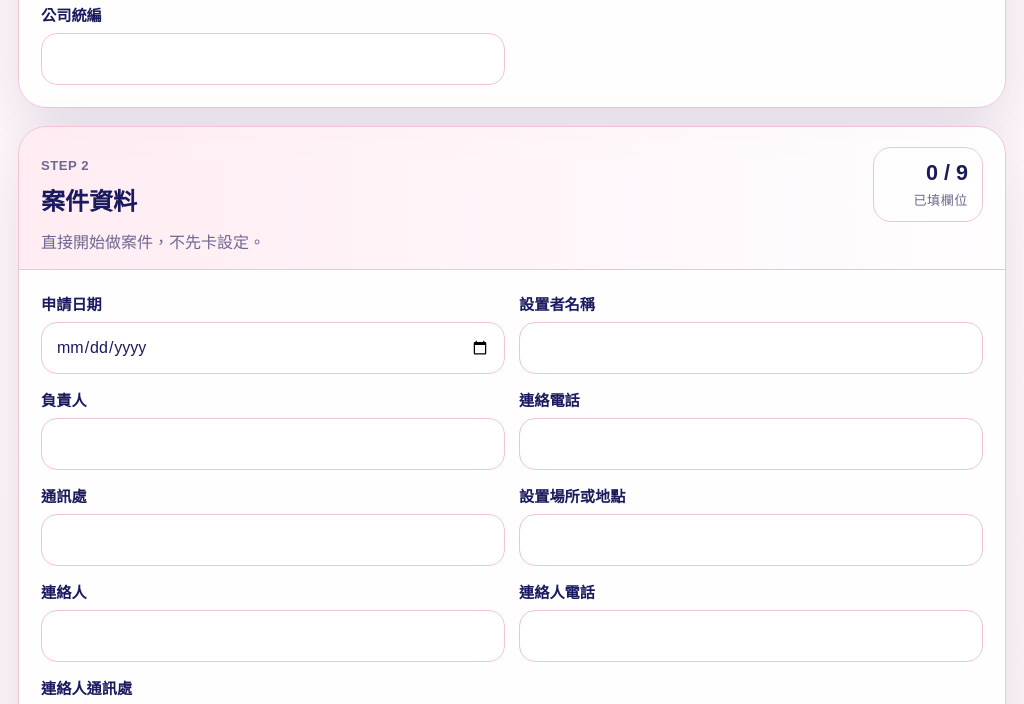
Test: single-form MVP page › shows the quick summary after case data changes
This screenshot has width=1024, height=704.
(page scrolled)
Type "吳威霖" into the field labelled "設置者名稱".
click(751, 348); type("吳威霖")  # box top-left (519, 322), bottom-right (983, 374)
(page scrolled)
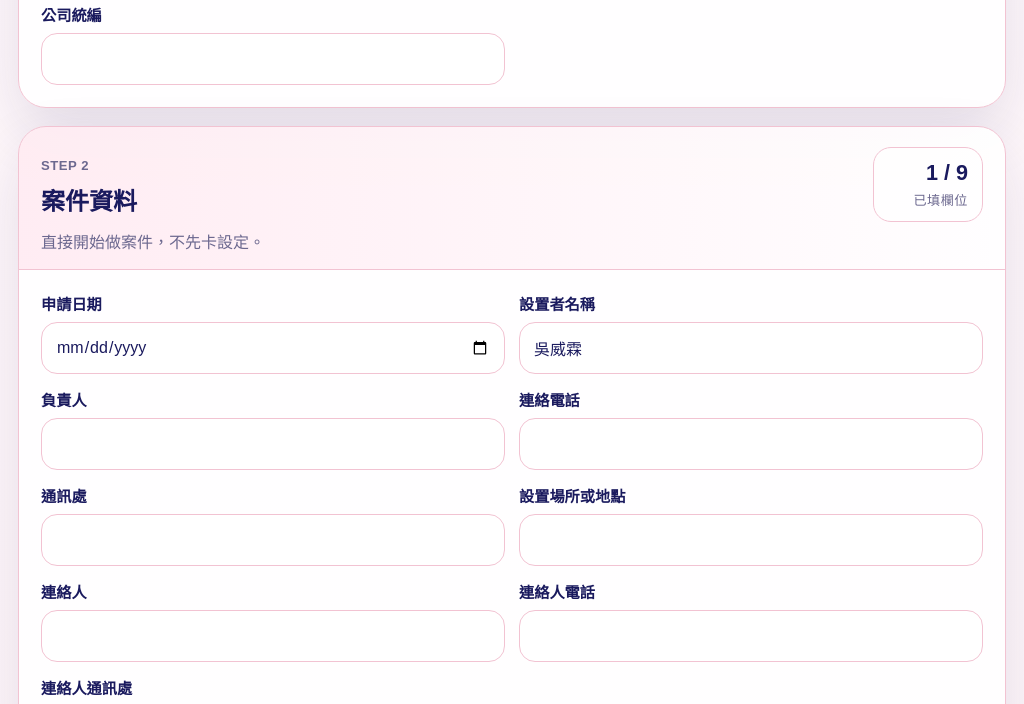
Type "高雄市鼓山區明德路31號" into the field labelled "設置場所或地點".
click(751, 540); type("高雄市鼓山區明德路31號")  # box top-left (519, 514), bottom-right (983, 566)
(page scrolled)
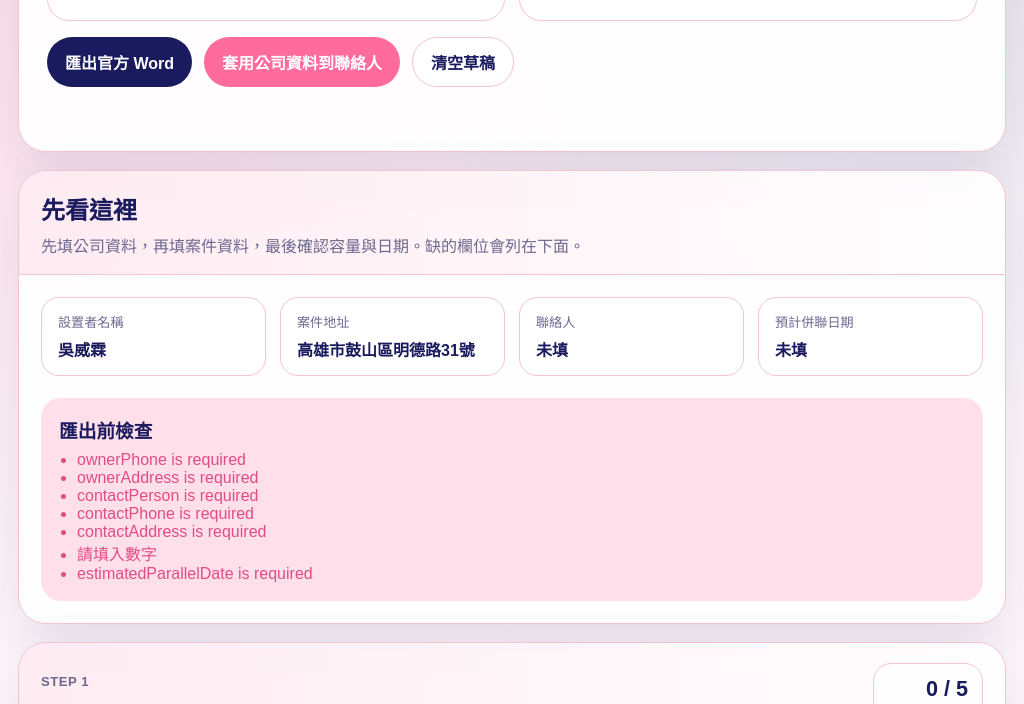
Check: the heading "先看這裡" is shown, box top-left (41, 197), bottom-right (137, 224)
Check: the text "吳威霖" is shown, box top-left (58, 342), bottom-right (106, 359)
Check: the text "高雄市鼓山區明德路31號" is shown, box top-left (297, 337), bottom-right (488, 361)
